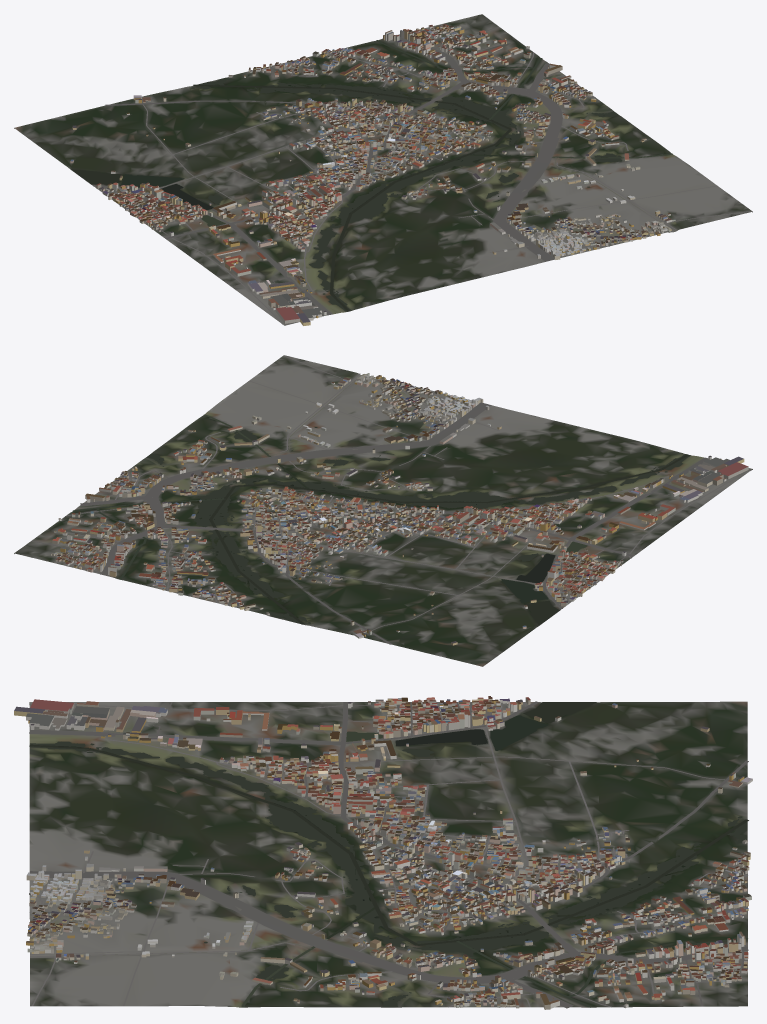
The picture shows the model from 3 angles, top to bottom: view 1: azimuth 30°, elevation 25°; view 2: azimuth 150°, elevation 25°; view 3: azimuth 270°, elevation 25°; orthographic projection. The views are drawn at different scales.
Visible parts, largest first — view 1: ground, buildings, water, roads; view 2: ground, buildings, water, roads; view 3: ground, buildings, water, roads.
Part boxes in pixels (box(x1,y1,x2,y2)): ground: box(14, 14, 752, 325); buildings: box(70, 24, 675, 325); water: box(71, 40, 674, 311); roads: box(93, 27, 751, 324); ground: box(14, 355, 752, 666); buildings: box(50, 373, 748, 645); water: box(73, 375, 690, 625); roads: box(31, 355, 751, 644); ground: box(29, 701, 747, 1007); buildings: box(14, 696, 752, 1009); water: box(29, 702, 748, 1007); roads: box(29, 701, 748, 1008).
Bounding box in the file's own units: 1421 × 33.92 × 1443.
